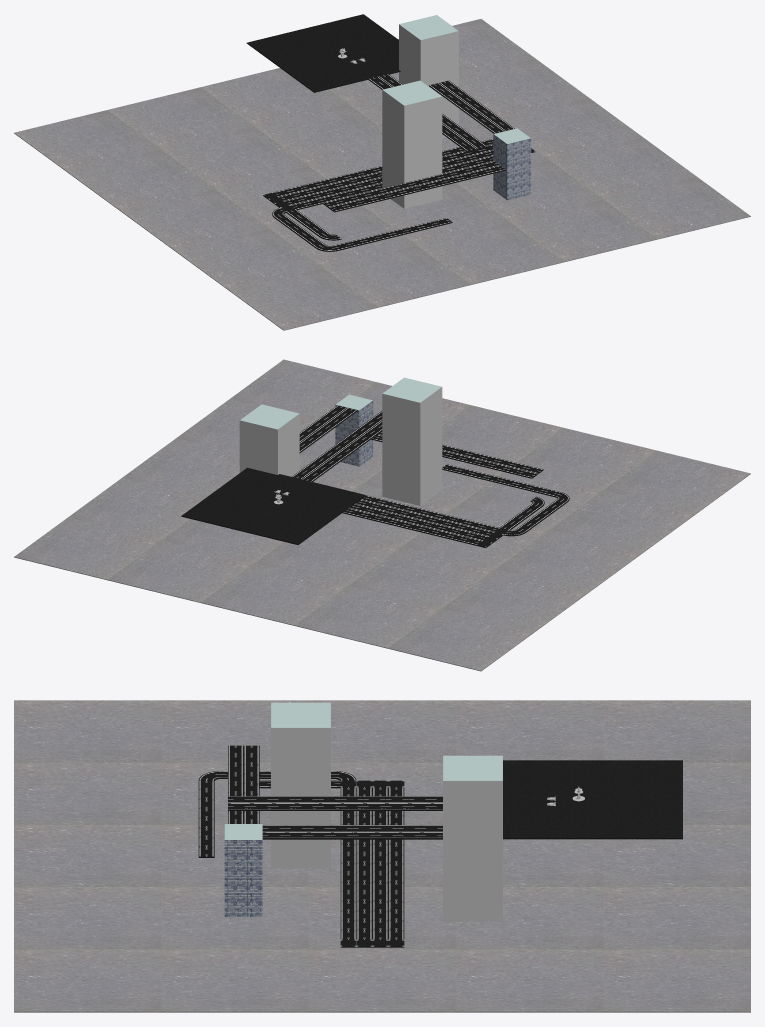
The model's file is stage_01.fbx.
The picture shows the model from 3 angles, top to bottom: view 1: azimuth 30°, elevation 25°; view 2: azimuth 150°, elevation 25°; view 3: azimuth 270°, elevation 25°; orthographic projection. The views are drawn at different scales.
Visible parts, largest first — view 1: stage_base01, bill01 (×2), Plaza, bill02; view 2: stage_base01, bill01 (×2), Plaza, bill02; view 3: stage_base01, bill01 (×2), Plaza, road (×20), bill02.
Part boxes in pixels (left/top/right/bottom): stage_base01: left=14, top=19, right=750, bottom=330; bill01 (×2): left=382, top=15, right=458, bottom=208; Plaza: left=246, top=14, right=400, bottom=92; bill02: left=493, top=128, right=531, bottom=200; stage_base01: left=14, top=359, right=750, bottom=671; bill01 (×2): left=239, top=377, right=442, bottom=505; Plaza: left=181, top=467, right=365, bottom=544; bill02: left=335, top=394, right=373, bottom=466; stage_base01: left=14, top=700, right=750, bottom=1012; bill01 (×2): left=271, top=702, right=502, bottom=921; Plaza: left=503, top=760, right=682, bottom=839; road (×20): left=198, top=745, right=442, bottom=939; bill02: left=224, top=824, right=262, bottom=916.
Size of the model in its own units: 8000 by 8000 by 1700.
